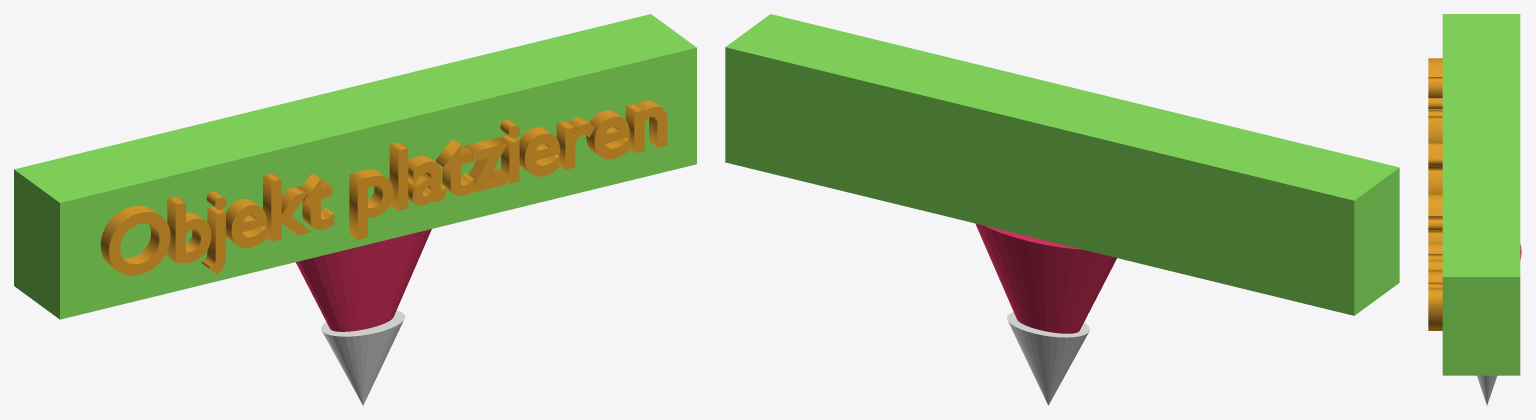
File: placer.gltf
3 views of the same model, side by side, from view 1: azimuth 30°, elevation 25°; view 2: azimuth 150°, elevation 25°; view 3: azimuth 270°, elevation 25° (orthographic). The views are drawn at different scales.
Parts seen in each view (by area): view 1: Cube, Text, Cone, Cone.003; view 2: Cube, Cone, Cone.003; view 3: Cube, Text, Cone.003.
Boxes of the visible parts, bbox=[...] form: Cube: bbox=[14, 14, 696, 319]; Text: bbox=[100, 100, 667, 275]; Cone: bbox=[295, 229, 431, 331]; Cone.003: bbox=[321, 310, 404, 405]; Cube: bbox=[725, 14, 1399, 315]; Cone: bbox=[975, 223, 1116, 333]; Cone.003: bbox=[1007, 312, 1089, 405]; Cube: bbox=[1442, 14, 1520, 375]; Text: bbox=[1428, 58, 1442, 330]; Cone.003: bbox=[1477, 375, 1496, 405].
Bounding box in the file's own units: 8 × 3.63 × 1.2.
